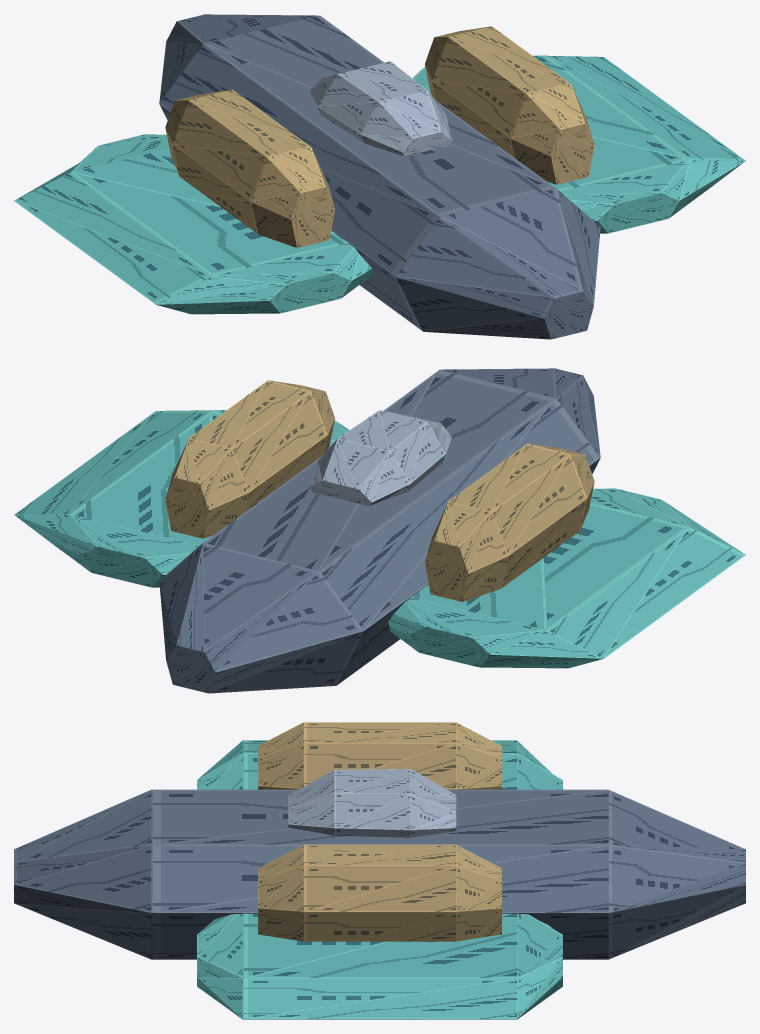
Rendered from MiningRelay.gltf.
3 views of the same model, one above another, from view 1: azimuth 30°, elevation 25°; view 2: azimuth 150°, elevation 25°; view 3: azimuth 270°, elevation 25° (orthographic). The views are drawn at different scales.
Parts seen in each view (by area): view 1: Mining relay; view 2: Mining relay; view 3: Mining relay.
Part boxes in pixels (bbox=[...]): Mining relay: bbox=[14, 14, 745, 339]; Mining relay: bbox=[14, 368, 745, 693]; Mining relay: bbox=[14, 722, 745, 1019].
Bounding box in the file's own units: 43.2 × 10.34 × 48.
1 material, 1 textured.
